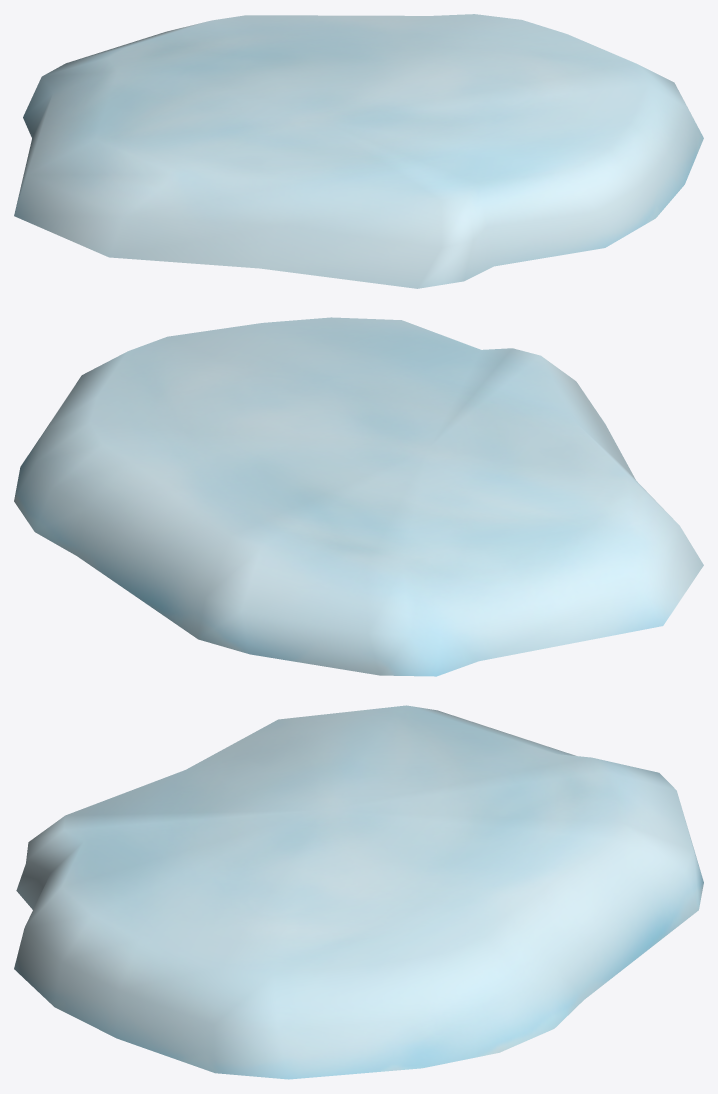
File: Snow_Drift.fbx
The picture shows the model from 3 angles, top to bottom: view 1: azimuth 30°, elevation 25°; view 2: azimuth 150°, elevation 25°; view 3: azimuth 270°, elevation 25°; orthographic projection. The views are drawn at different scales.
Visible parts, largest first — view 1: pCylinder1; view 2: pCylinder1; view 3: pCylinder1.
Part boxes in pixels (x1,y1,x2,y2): pCylinder1: (14, 14, 703, 288); pCylinder1: (14, 317, 703, 676); pCylinder1: (14, 705, 703, 1079).
Size of the model in its own units: 27.84 by 2.87 by 23.71.
